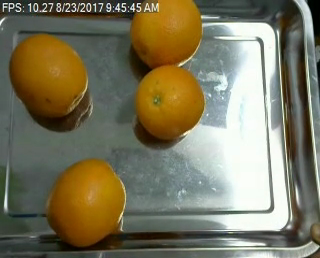Orange: (46, 158, 126, 246), (9, 34, 87, 117), (135, 65, 205, 139), (129, 1, 202, 69)
